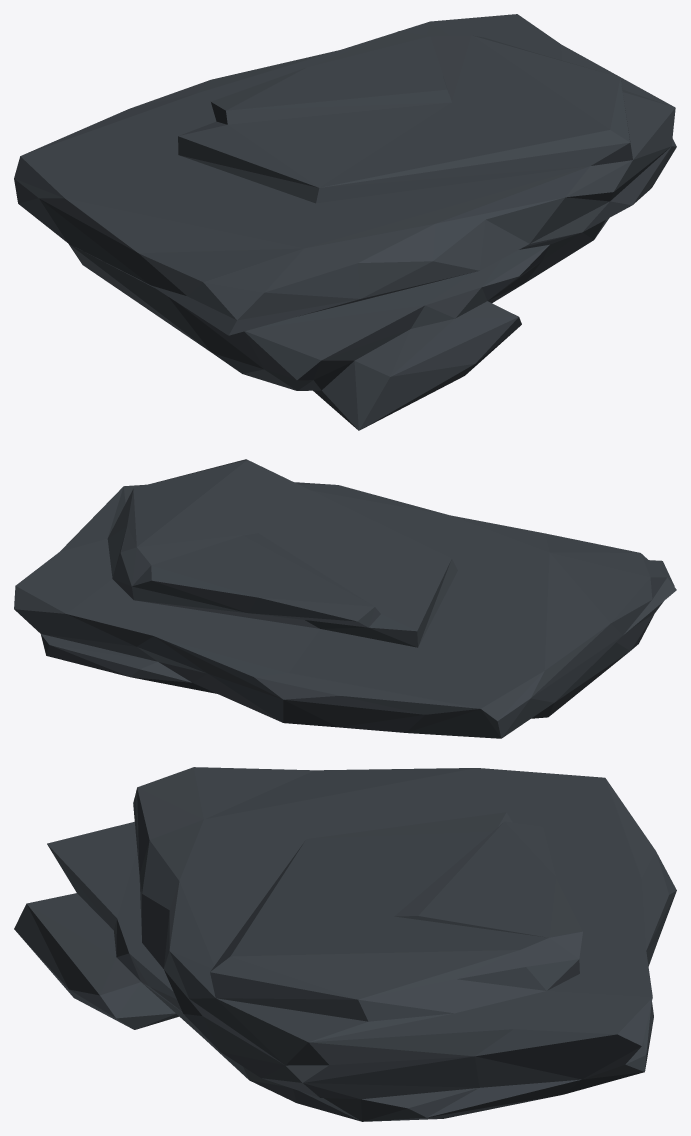
The model's file is MDungeon_CavernRock_Flat_04.FBX.
The picture shows the model from 3 angles, top to bottom: view 1: azimuth 30°, elevation 25°; view 2: azimuth 150°, elevation 25°; view 3: azimuth 270°, elevation 25°; orthographic projection. The views are drawn at different scales.
Parts seen in each view (by area): view 1: MDungeon_CavernRock_Flat_04_LOD0; view 2: MDungeon_CavernRock_Flat_04_LOD0; view 3: MDungeon_CavernRock_Flat_04_LOD0.
Boxes of the visible parts, x1,y1,x2,y2 form: MDungeon_CavernRock_Flat_04_LOD0: [14, 14, 676, 430]; MDungeon_CavernRock_Flat_04_LOD0: [14, 459, 676, 738]; MDungeon_CavernRock_Flat_04_LOD0: [14, 767, 676, 1121].
Size of what is drawn, in the model's own units: 8.98 by 2.33 by 8.52.
